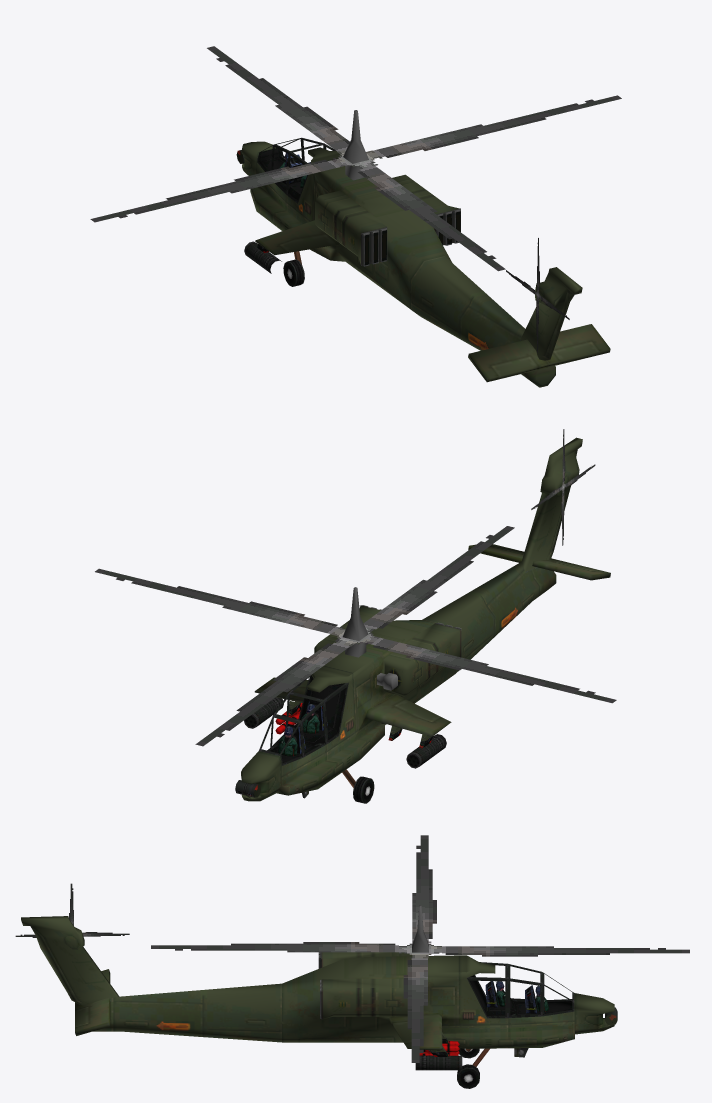
The model's file is APACHE_AH64.glb.
3 views of the same model, one above another, from view 1: azimuth 30°, elevation 25°; view 2: azimuth 150°, elevation 25°; view 3: azimuth 270°, elevation 25° (orthographic). The views are drawn at different scales.
Parts seen in each view (by area): view 1: APACHE_AH64, BLADES_MOTION; view 2: APACHE_AH64, BLADES_MOTION; view 3: APACHE_AH64, BLADES_MOTION, BLADES_MOTION1.
Part boxes in pixels (<box>): APACHE_AH64: <box>236,137,610,387</box>; BLADES_MOTION: <box>90,46,621,271</box>; APACHE_AH64: <box>235,437,610,803</box>; BLADES_MOTION: <box>95,526,616,746</box>; APACHE_AH64: <box>21,916,617,1088</box>; BLADES_MOTION: <box>151,835,689,1062</box>; BLADES_MOTION1: <box>15,883,129,937</box>.
Size of the model in its own units: 14.87 by 5.44 by 18.34.
Materials: 5 (4 with a texture image).
